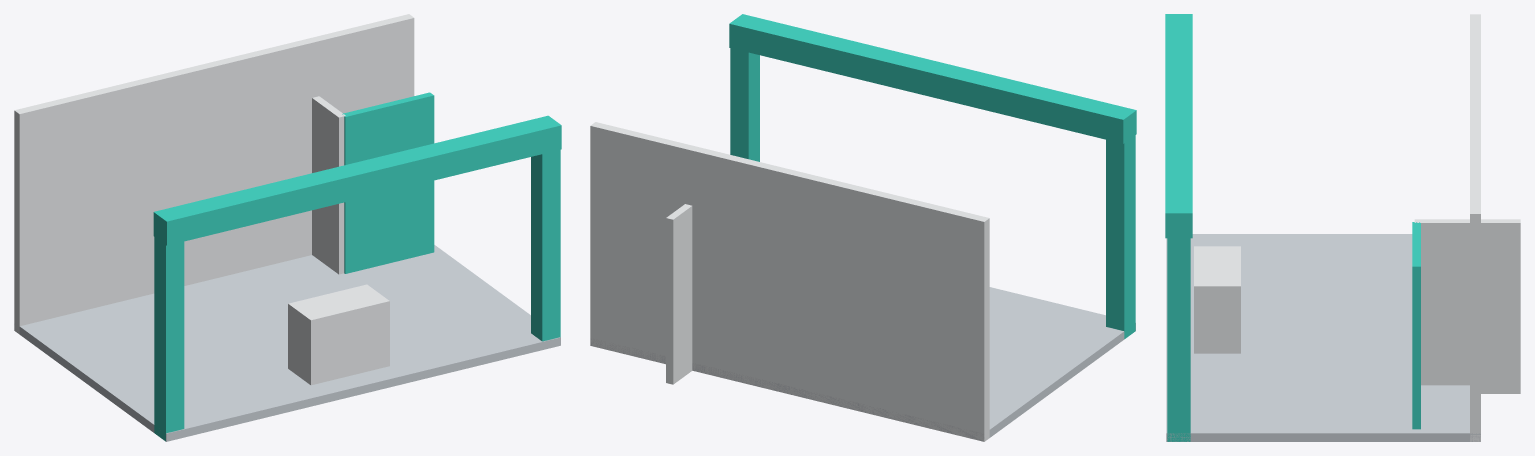
The picture shows the model from 3 angles, left to right: view 1: azimuth 30°, elevation 25°; view 2: azimuth 150°, elevation 25°; view 3: azimuth 270°, elevation 25°; orthographic projection. The views are drawn at different scales.
Visible parts, largest first — view 1: Exhibition Booth Concept; view 2: Exhibition Booth Concept; view 3: Exhibition Booth Concept.
Part boxes in pixels (x1,y1,x2,y2): Exhibition Booth Concept: [14, 14, 561, 441]; Exhibition Booth Concept: [590, 14, 1136, 441]; Exhibition Booth Concept: [1165, 14, 1520, 441].
Size of the model in its own units: 6 by 3.2 by 4.52.
